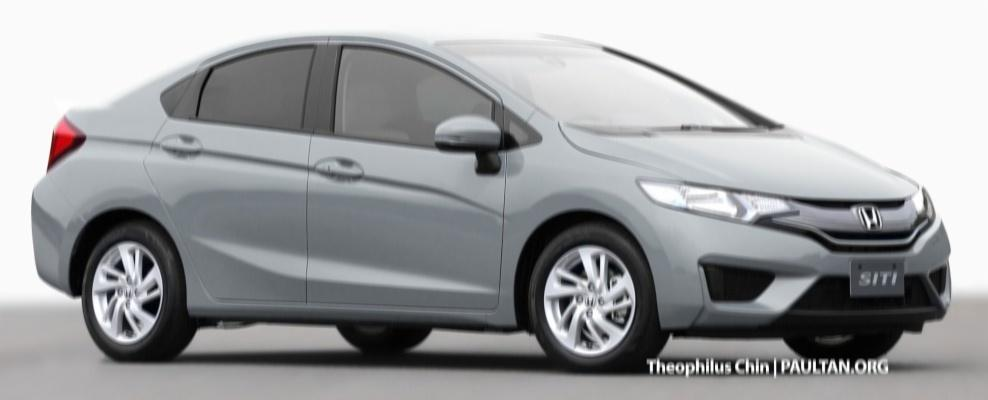Car hood: (556, 119, 923, 201)
Driver-s door - -F-R-: (295, 25, 513, 330)
Fender - -F-R-: (489, 96, 662, 303)
Fender - -R-R-: (53, 63, 177, 233)
Front bumper: (625, 204, 956, 341)
Headlight - -L-: (907, 182, 935, 223)
Headlight - -R-: (636, 175, 798, 227)
Passenger-s door - -R-R-: (141, 22, 331, 324)
Rear bumper: (21, 178, 87, 300)
Rear light - -R-: (41, 112, 87, 179)
Side bumper - -R-: (179, 266, 536, 344)
Side mirror - -R-: (427, 115, 507, 174)
